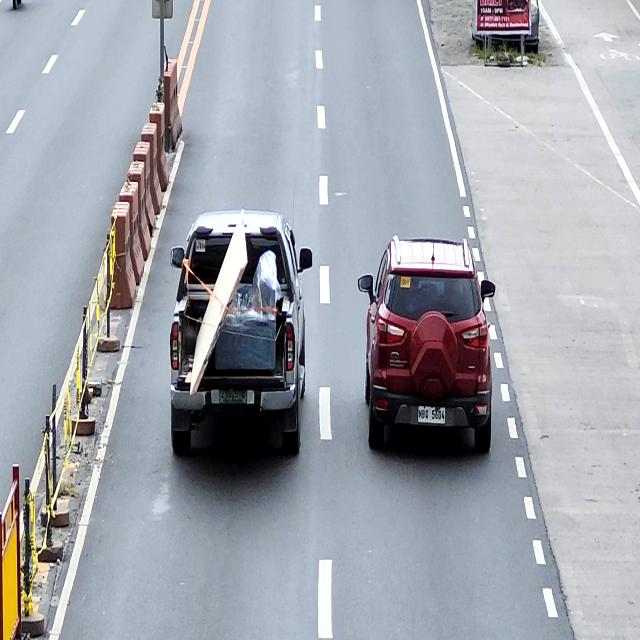Car: (170, 209, 313, 459), (357, 235, 496, 455)
License-Plate: (417, 405, 446, 424), (218, 389, 248, 405)
